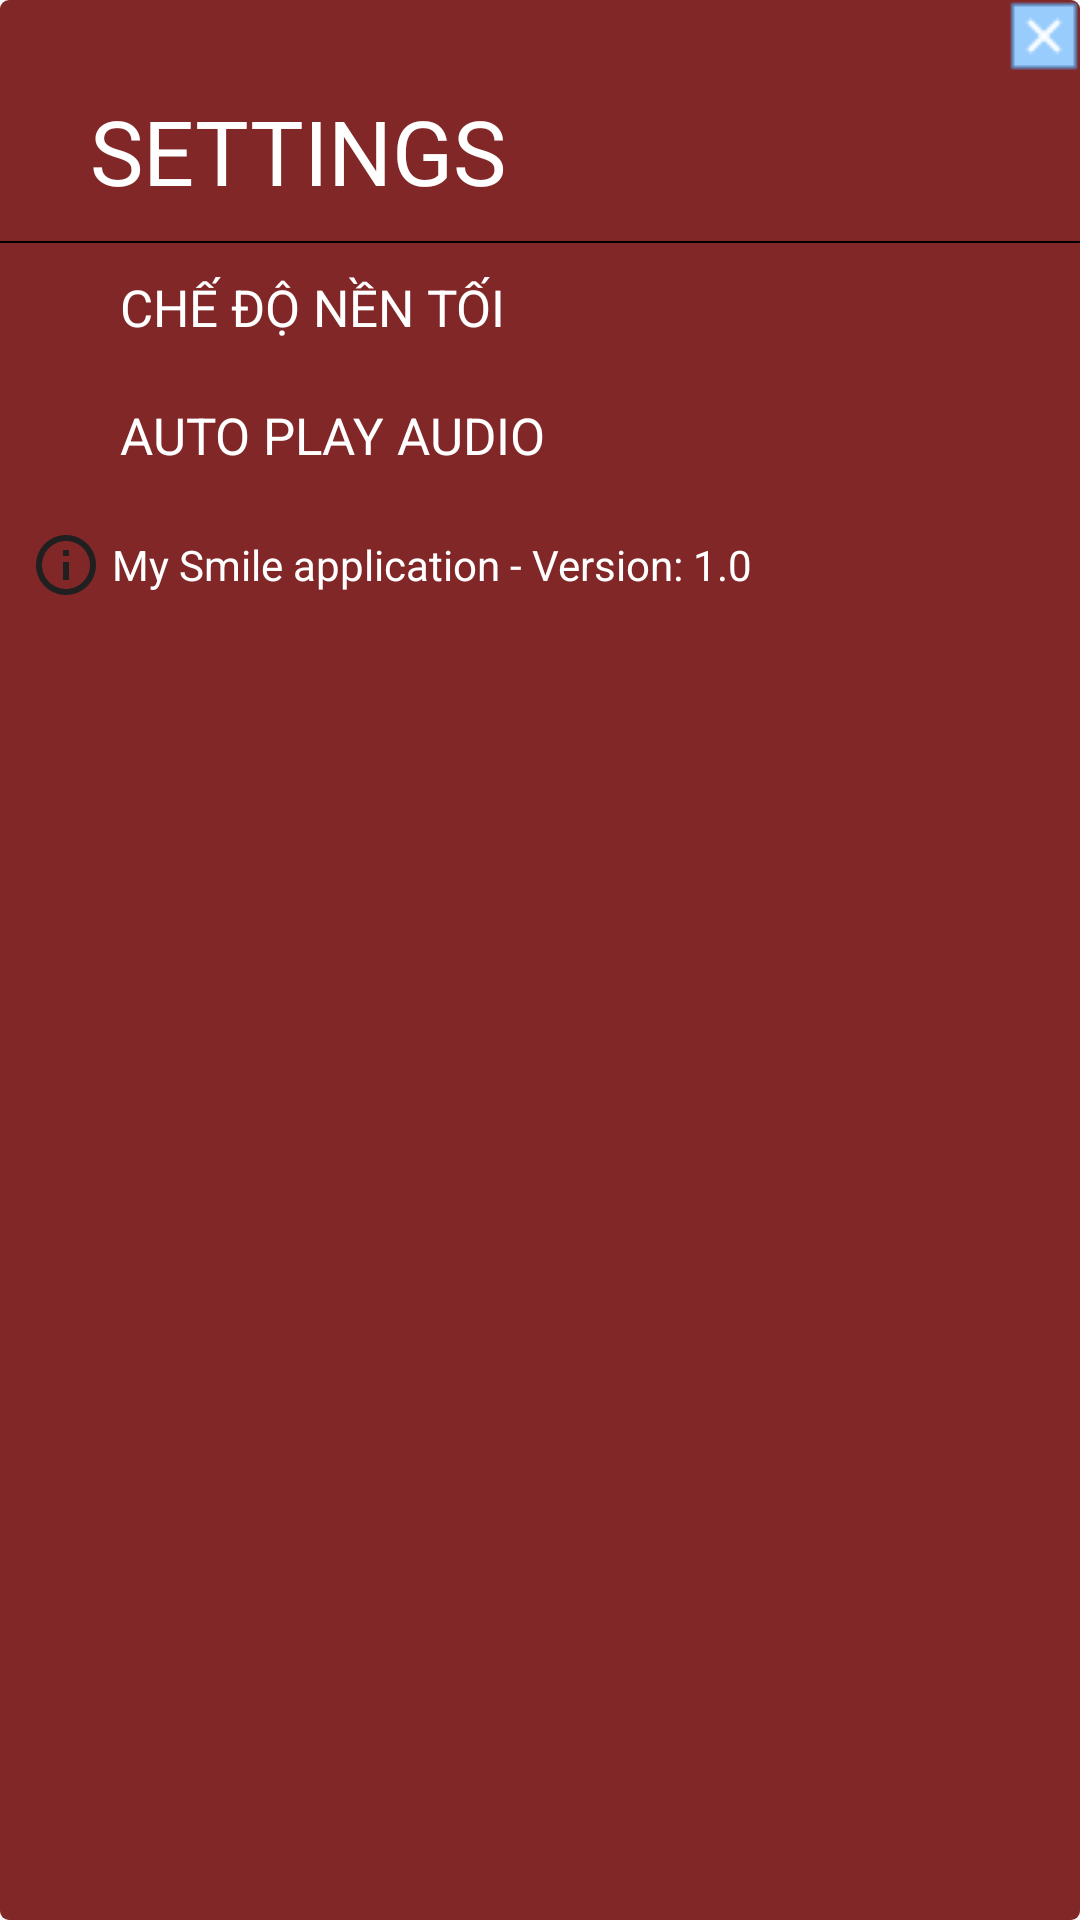

Icon click points for this 1080x1920 phone screenshot, format (x,y):
close: (1045,35)
